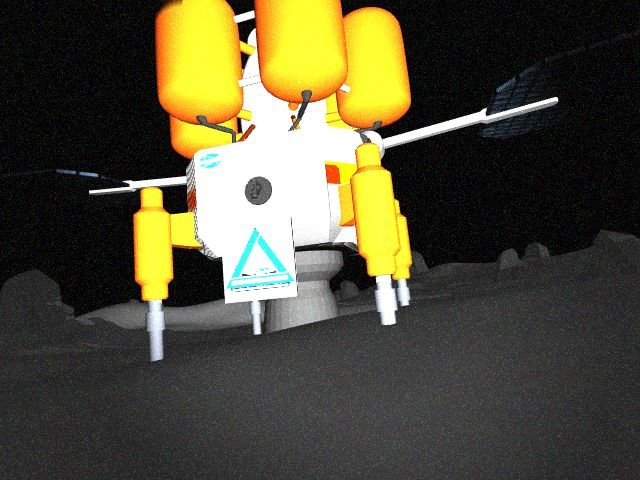basemarker: (226, 225, 297, 294)
